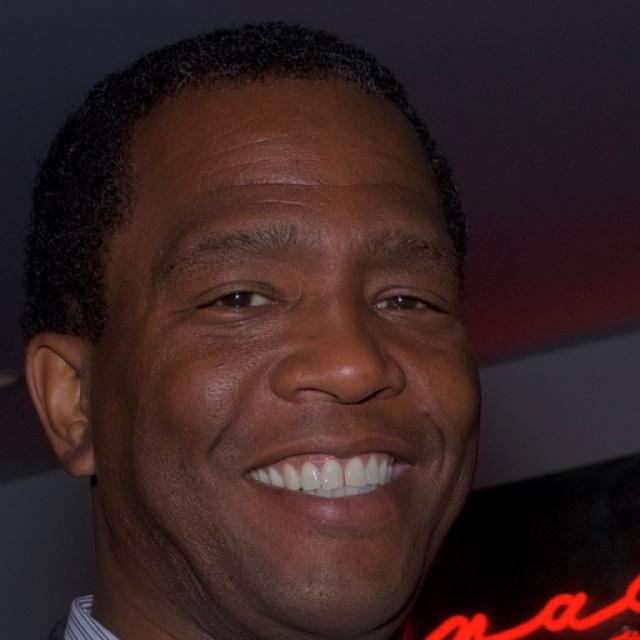Wrinkle: (220, 173, 426, 198), (206, 130, 312, 162), (421, 407, 462, 488), (207, 408, 246, 485), (236, 191, 304, 216)
